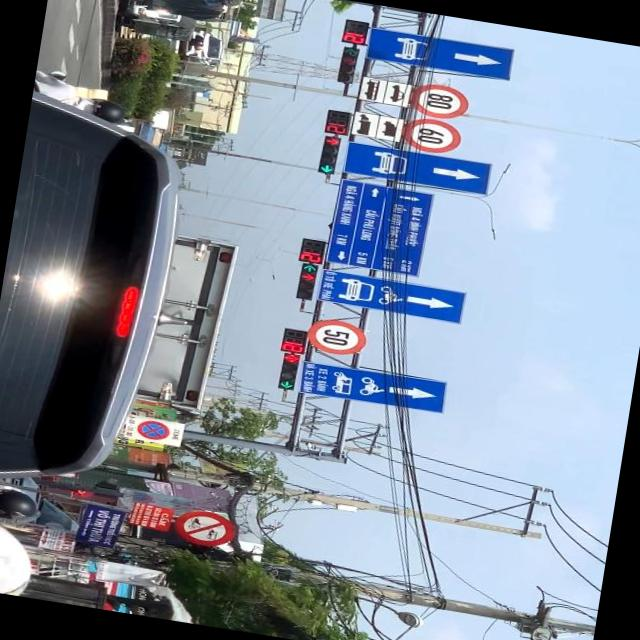P-127: (306, 317, 370, 359)
